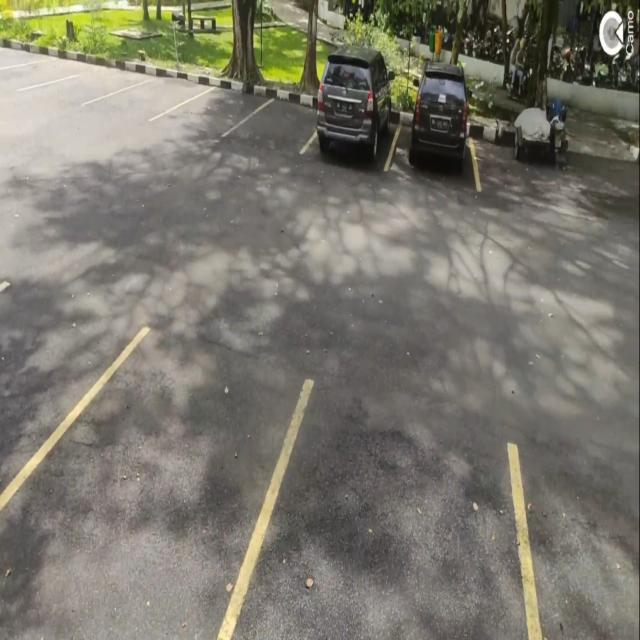empty: (40, 326, 269, 638), (269, 382, 529, 640), (242, 88, 309, 160), (116, 68, 186, 124), (180, 80, 247, 138)
occupied: (306, 59, 394, 168), (392, 76, 478, 182)
